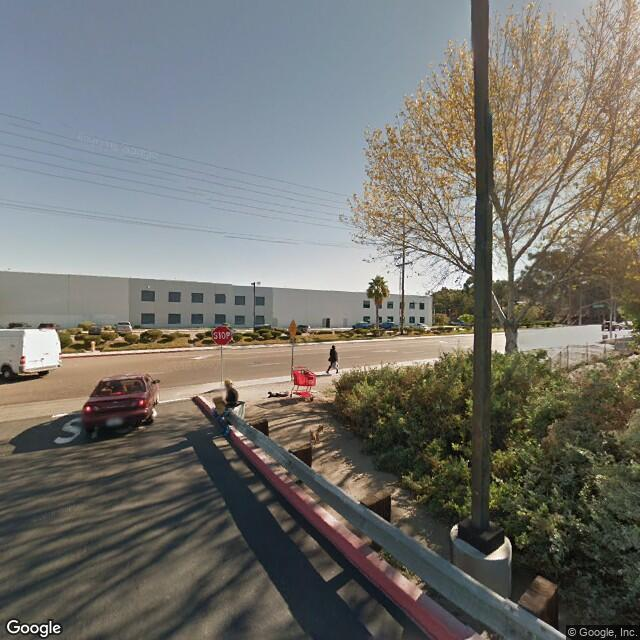litter: (267, 388, 288, 398)
